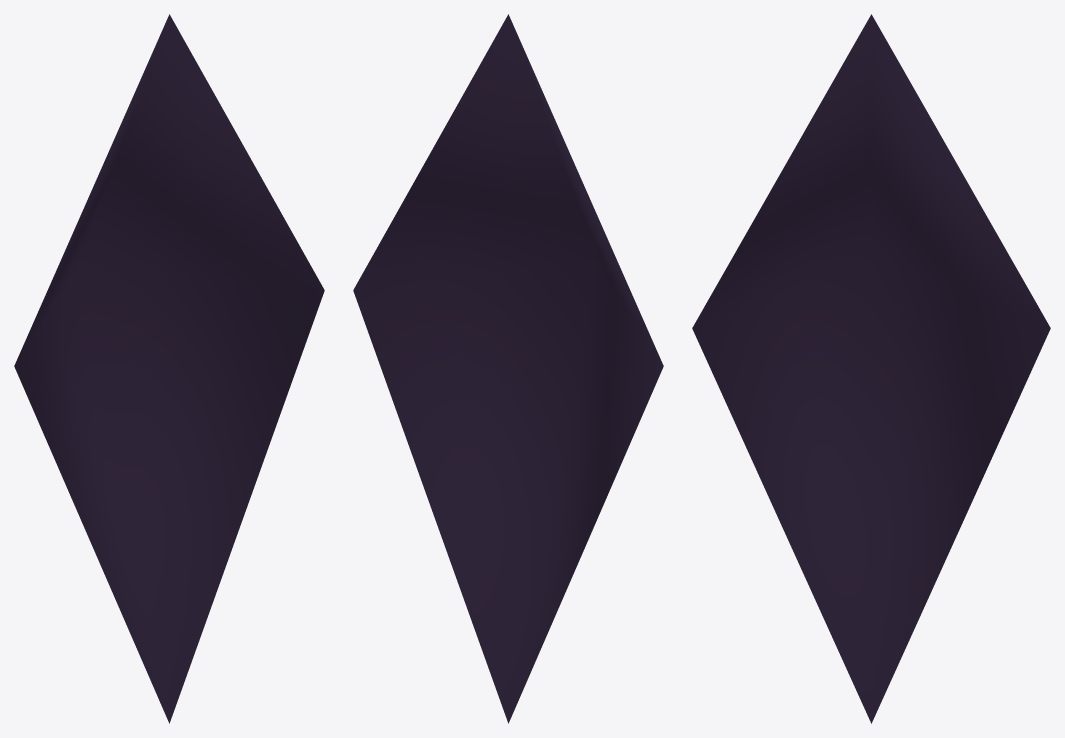
File: arcane_prism_ink.glb
3 views of the same model, side by side, from view 1: azimuth 30°, elevation 25°; view 2: azimuth 150°, elevation 25°; view 3: azimuth 270°, elevation 25° (orthographic).
Visible parts, largest first — view 1: arcane_prism_ink; view 2: arcane_prism_ink; view 3: arcane_prism_ink.
Boxes of the visible parts, box(x1,y1,x2,y2) form: arcane_prism_ink: box(14, 14, 324, 723); arcane_prism_ink: box(353, 14, 663, 723); arcane_prism_ink: box(692, 14, 1050, 723).
Bounding box in the file's own units: 0.9799 × 2.14 × 0.9799.
